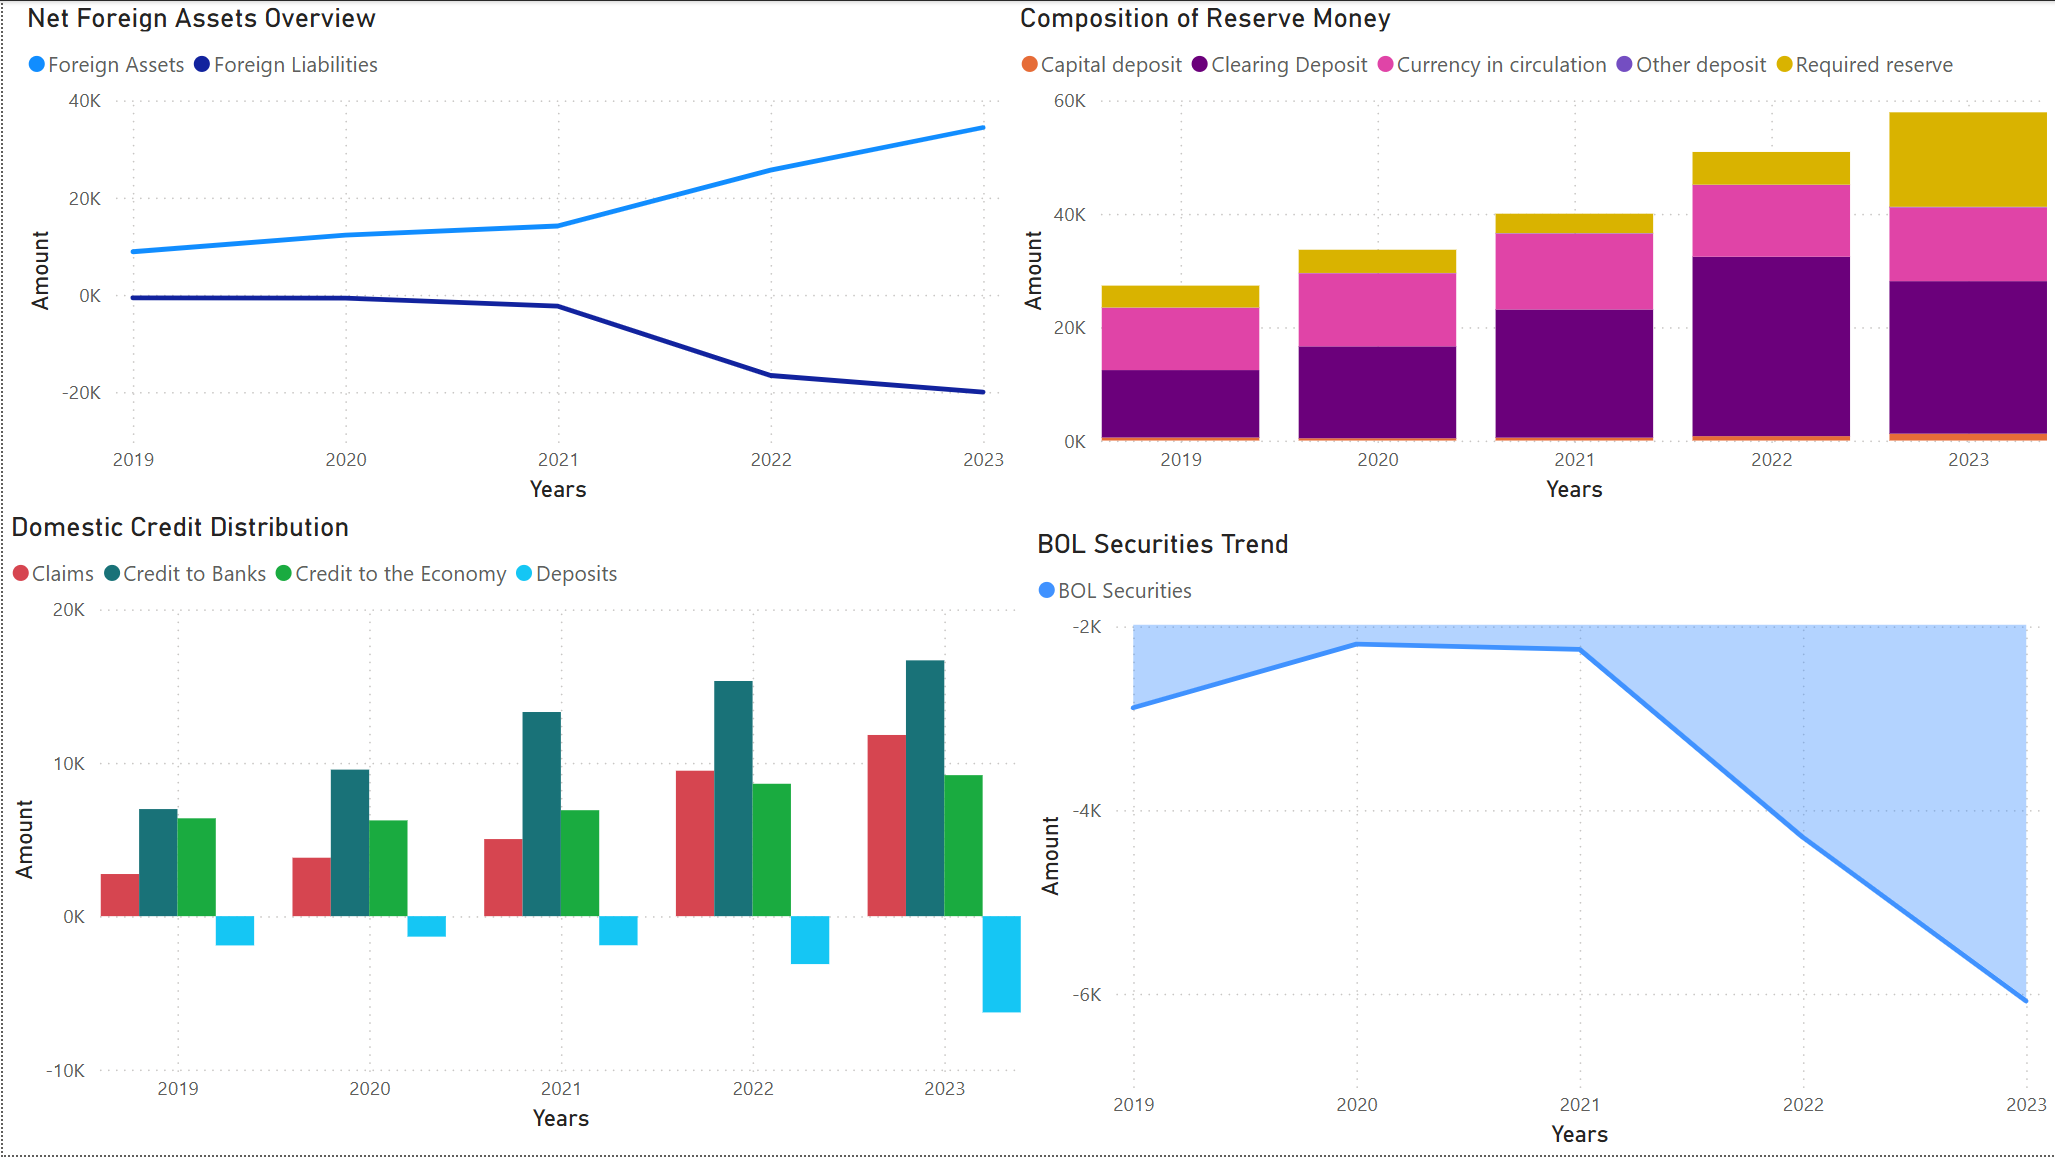

The dashboard page shown, as its layout file describes it:
{"tool":"powerbi","page":{"name":"Financial Performance of BoL","canvas":[1280,720],"ordinal":2},"visuals":[{"type":"lineChart","title":"Net Foreign Assets Overview","fields":{"Category":["Financial of BOL.year"],"Y":["Sum(Financial of BOL.amnt)"],"Series":["Financial of BOL.name"]},"box":[10,0,619.5,317.6],"z":0},{"type":"columnChart","title":"Composition of Reserve Money","fields":{"Category":["Financial of BOL.year"],"Y":["Sum(Financial of BOL.amnt)"],"Series":["Financial of BOL.name"]},"box":[629.5,0,650.7,317.6],"z":1000},{"type":"clusteredColumnChart","title":"Domestic Credit Distribution","fields":{"Category":["Financial of BOL.year"],"Y":["Sum(Financial of BOL.amnt)"],"Series":["Financial of BOL.name"]},"box":[0,317.6,640.1,392.4],"z":2000},{"type":"areaChart","title":"BOL Securities Trend","fields":{"Category":["Financial of BOL.year"],"Y":["Sum(Financial of BOL.amnt)"],"Series":["Financial of BOL.name"]},"box":[640.1,328.2,640.1,391.8],"z":3000}]}

Visuals, with their boxes in screenshot pixels (x1, y1, x2, y2), scaled from the page's 1280x720 canvas onto the 2055x1157 screenshot:
"Net Foreign Assets Overview" lineChart: <box>16,0,1011,510</box>
"Composition of Reserve Money" columnChart: <box>1011,0,2054,510</box>
"Domestic Credit Distribution" clusteredColumnChart: <box>0,510,1028,1141</box>
"BOL Securities Trend" areaChart: <box>1028,527,2054,1156</box>
